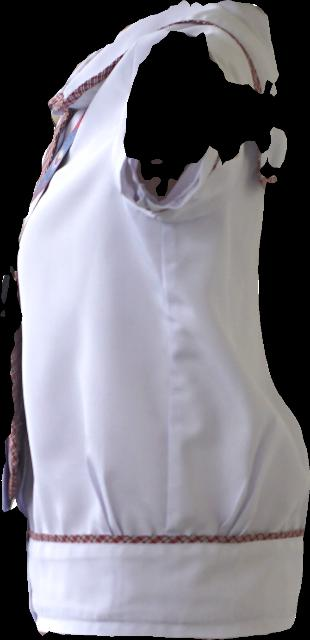pologirl: (2, 0, 309, 639)
